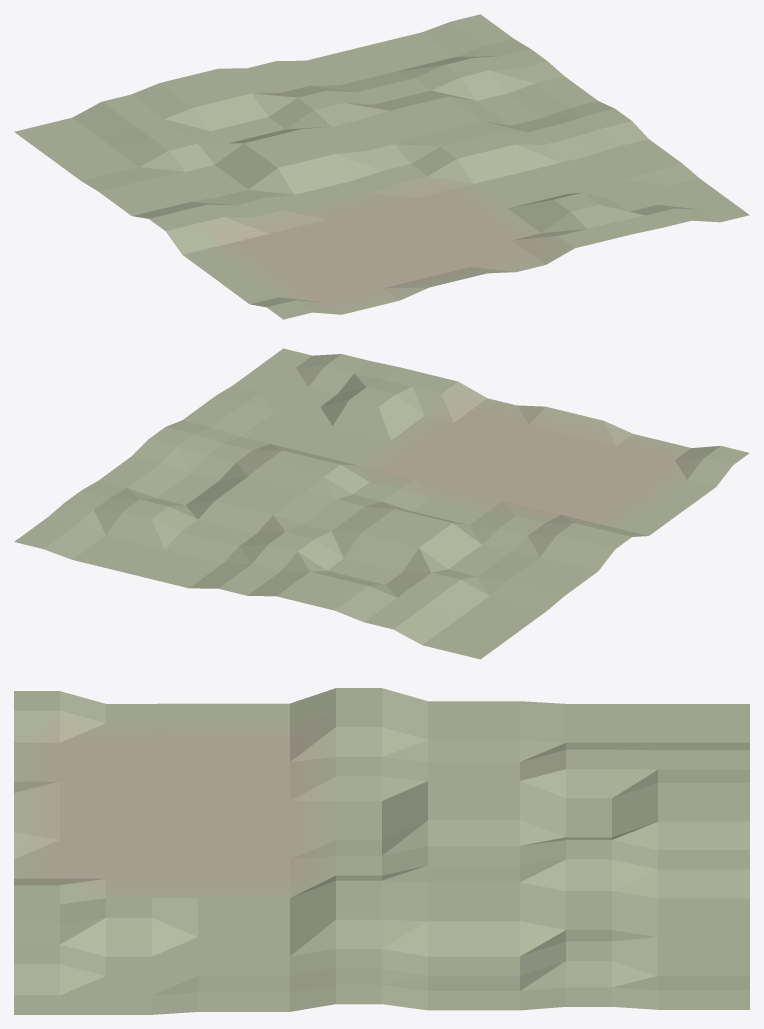
The picture shows the model from 3 angles, top to bottom: view 1: azimuth 30°, elevation 25°; view 2: azimuth 150°, elevation 25°; view 3: azimuth 270°, elevation 25°; orthographic projection. The views are drawn at different scales.
Size of the model in its own units: 32 by 0.9571 by 32.
